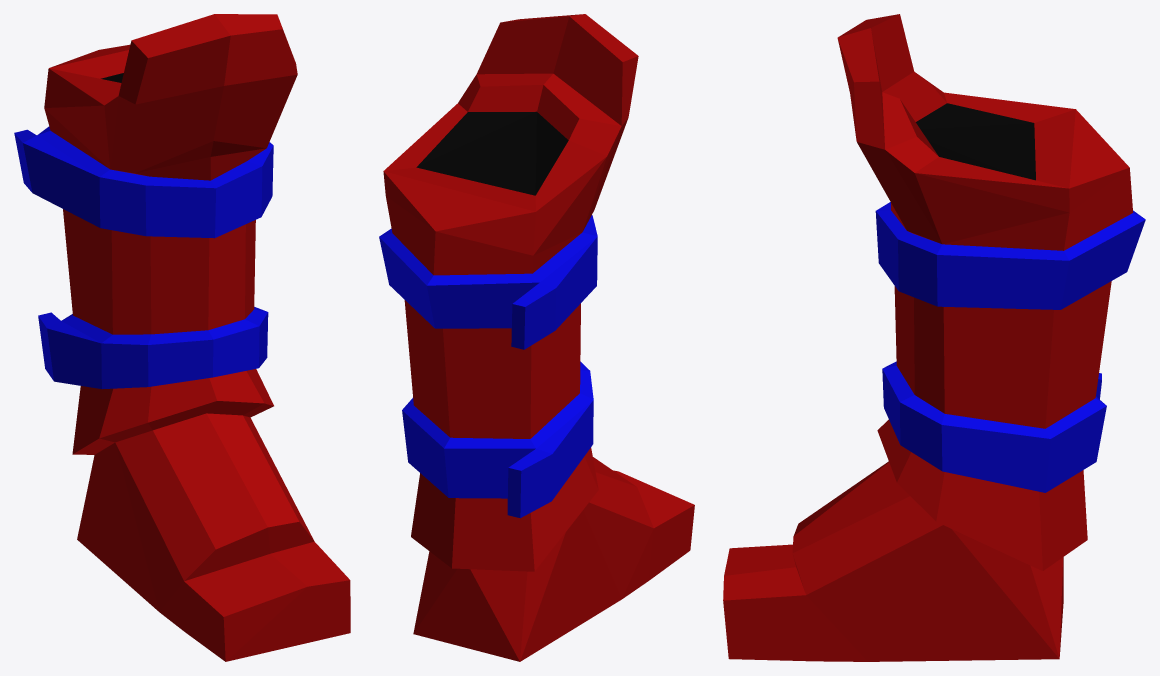
The model's file is Chr_LegLeft_Male_Static_13.fbx.
3 views of the same model, side by side, from view 1: azimuth 30°, elevation 25°; view 2: azimuth 150°, elevation 25°; view 3: azimuth 270°, elevation 25° (orthographic). The views are drawn at different scales.
Parts seen in each view (by area): view 1: Chr_LegLeft_Male_13; view 2: Chr_LegLeft_Male_13; view 3: Chr_LegLeft_Male_13.
Part boxes in pixels (box(x1,y1,x2,y2)): Chr_LegLeft_Male_13: box(14, 14, 350, 661); Chr_LegLeft_Male_13: box(379, 14, 694, 661); Chr_LegLeft_Male_13: box(723, 14, 1145, 661).
Bounding box in the file's own units: 16.26 × 48.45 × 30.99.
